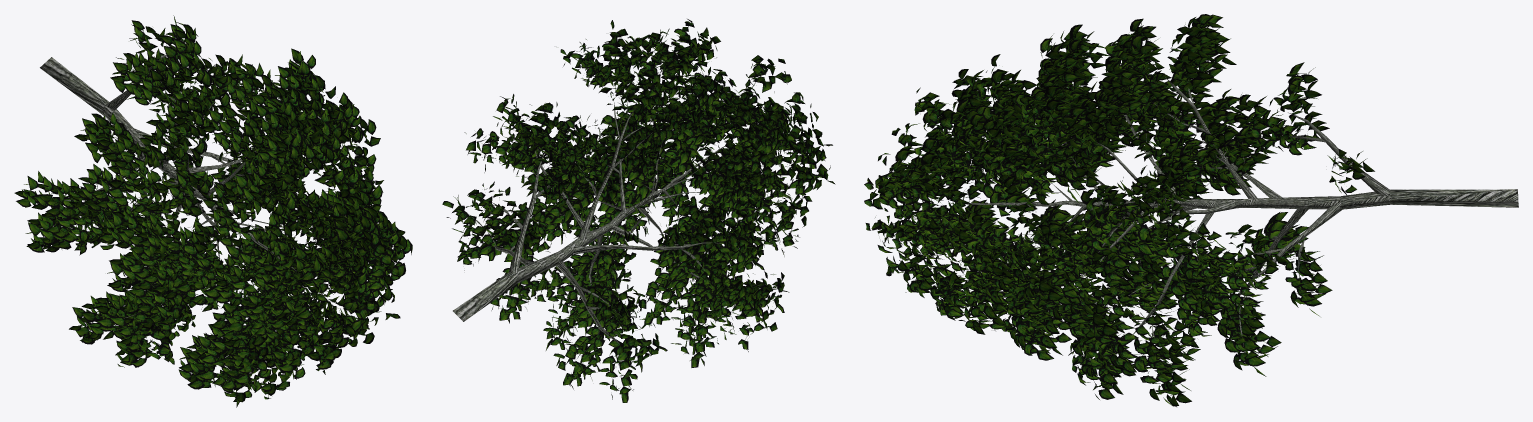
The model's file is birch_tree.glb.
3 renders of one model, left to right at view 1: azimuth 30°, elevation 25°; view 2: azimuth 150°, elevation 25°; view 3: azimuth 270°, elevation 25°, orthographic. The views are drawn at different scales.
Visible parts, largest first — view 1: Tree.Birch; view 2: Tree.Birch; view 3: Tree.Birch.
Part boxes in pixels (x1=…): Tree.Birch: x1=14, y1=15, x2=412, y2=407; Tree.Birch: x1=442, y1=19, x2=835, y2=402; Tree.Birch: x1=864, y1=14, x2=1518, y2=406.
Bounding box in the file's own units: 2.39 × 2.37 × 3.92.
2 materials, 2 textured.
